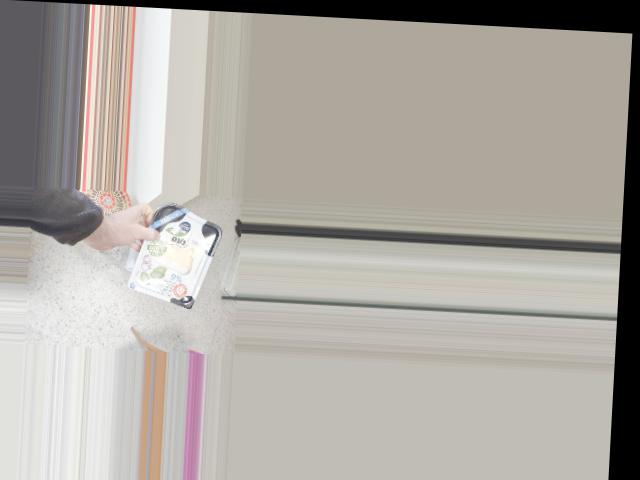cheese: (142, 209, 214, 303)
